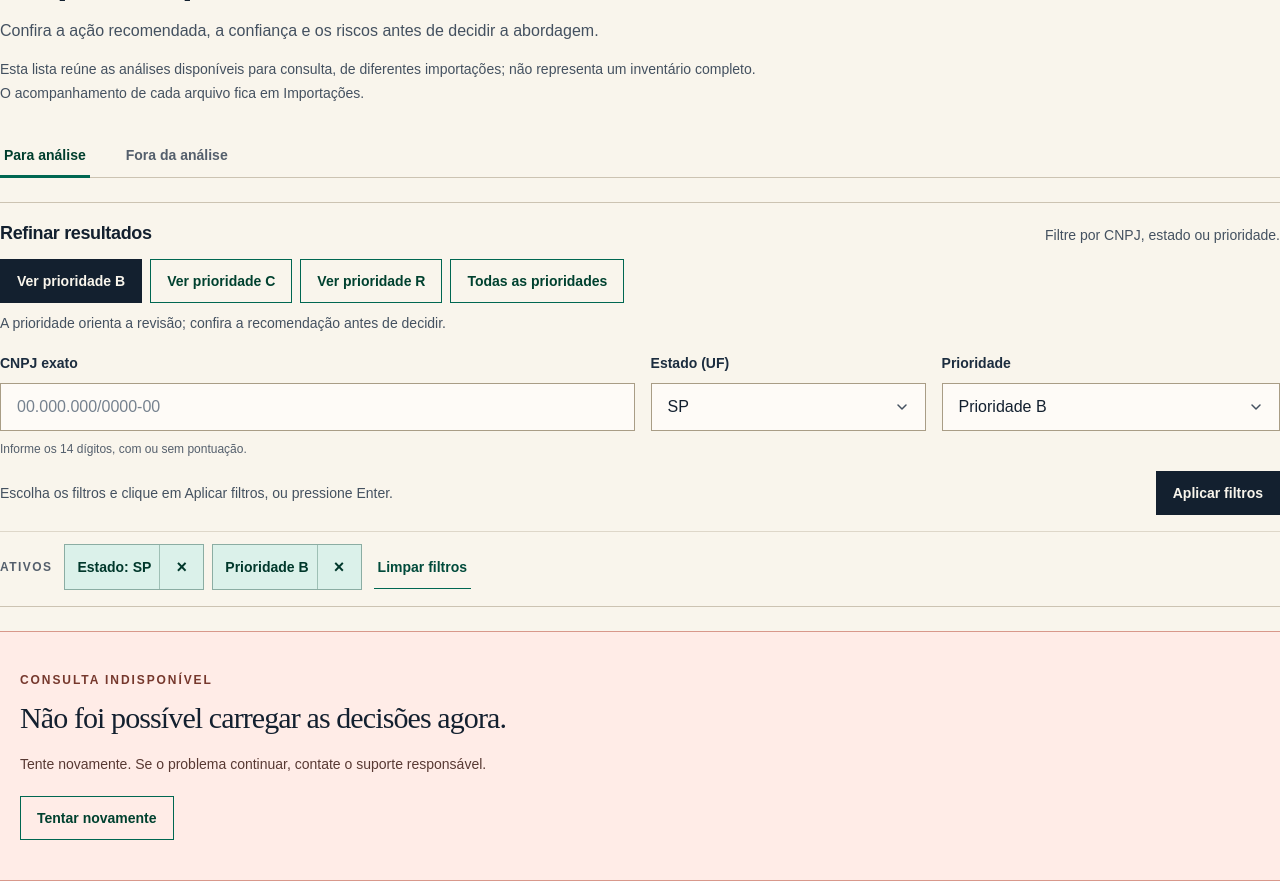
it: lead list page › retries the same filtered query from the initial safe error
(page scrolled)
Click the button "Tentar novamente" at [97, 818], box top-left (20, 796), bottom-right (174, 840)
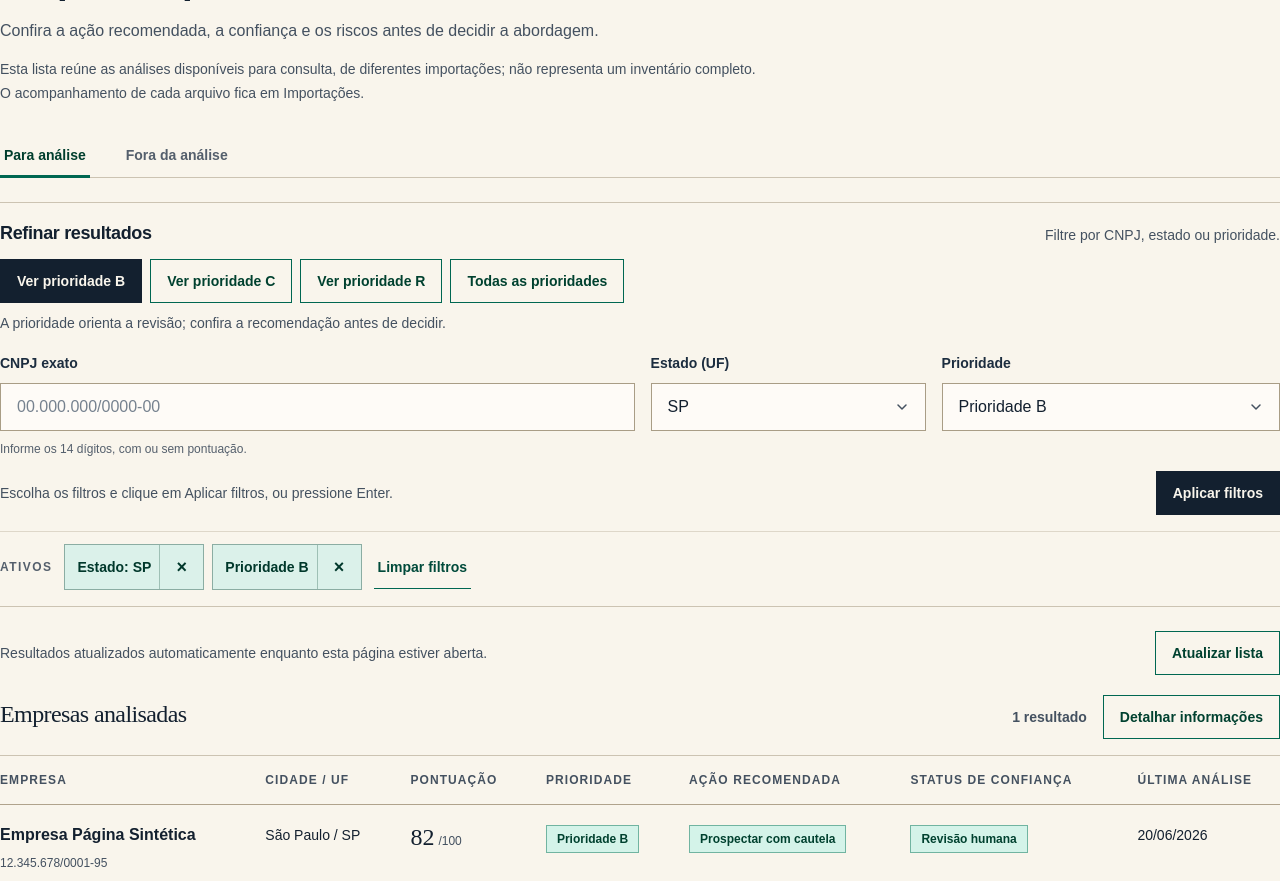
Now the text "Empresa Página Sintética" is shown, box top-left (0, 826), bottom-right (196, 843)
